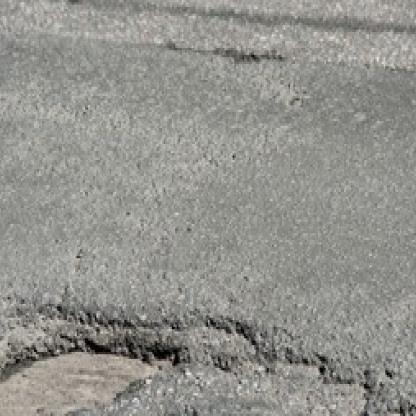pothole: (0, 294, 211, 416)
